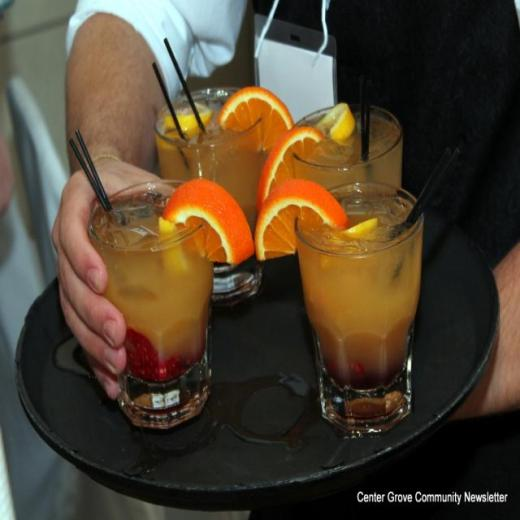Grape: (161, 178, 256, 266), (254, 178, 346, 262), (256, 124, 323, 208), (220, 86, 294, 149)
